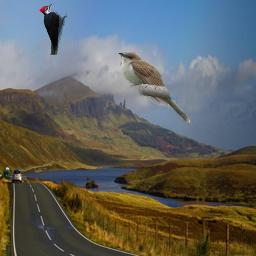Cuckoo: (117, 52, 191, 124)
Woodpecker: (38, 3, 67, 55)
